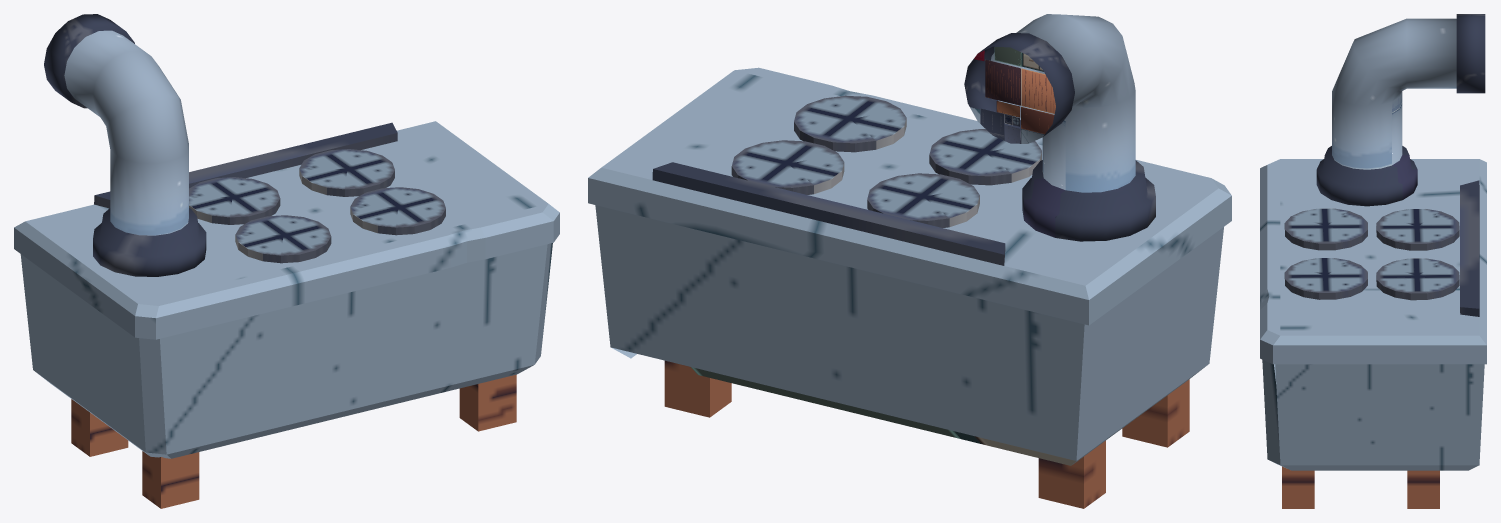
The model's file is Fogao.fbx.
3 views of the same model, side by side, from view 1: azimuth 30°, elevation 25°; view 2: azimuth 150°, elevation 25°; view 3: azimuth 270°, elevation 25° (orthographic). The views are drawn at different scales.
Visible parts, largest first — view 1: Fogao; view 2: Fogao; view 3: Fogao.
Boxes of the visible parts, x1=… form: Fogao: x1=14, y1=14, x2=559, y2=508; Fogao: x1=588, y1=14, x2=1231, y2=508; Fogao: x1=1260, y1=14, x2=1486, y2=508.
Size of the model in its own units: 198 by 104 by 179.
